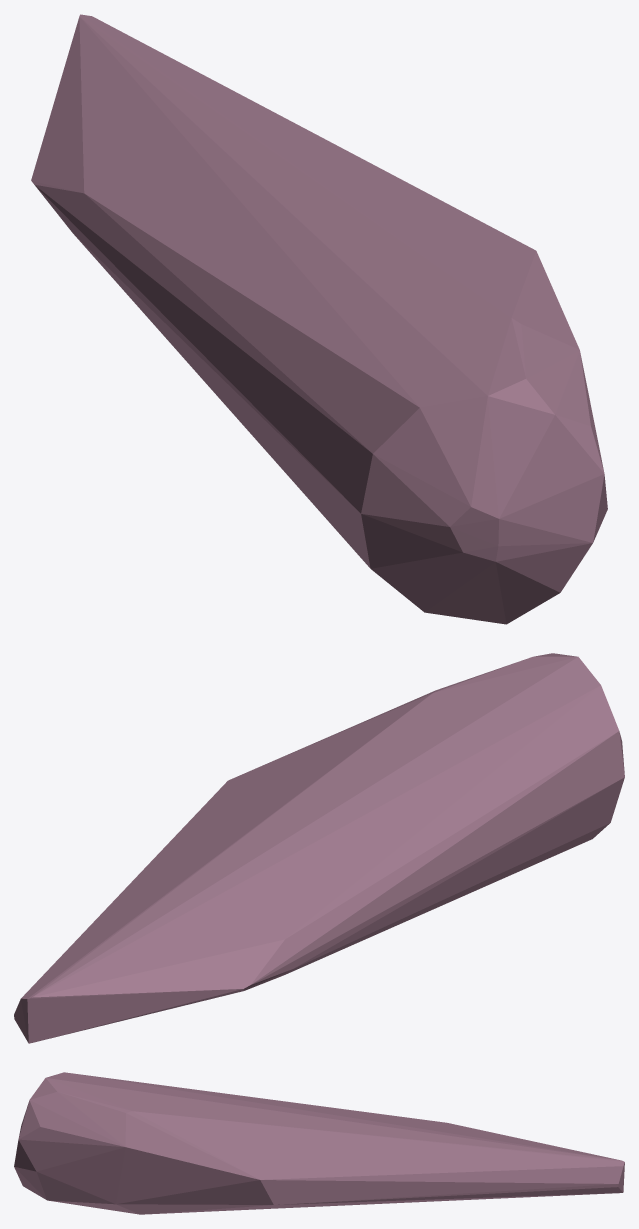
File: serviceTool_sprayGun_gravityFeed_a01.glb
3 views of the same model, one above another, from view 1: azimuth 30°, elevation 25°; view 2: azimuth 150°, elevation 25°; view 3: azimuth 270°, elevation 25° (orthographic). The views are drawn at different scales.
Visible parts, largest first — view 1: geometry_0; view 2: geometry_0; view 3: geometry_0.
Part boxes in pixels (x1,y1,x2,y2): geometry_0: [31, 14, 607, 624]; geometry_0: [14, 653, 624, 1043]; geometry_0: [14, 1072, 624, 1214].
Bounding box in the file's own units: 0.1621 × 0.1005 × 0.4788.
